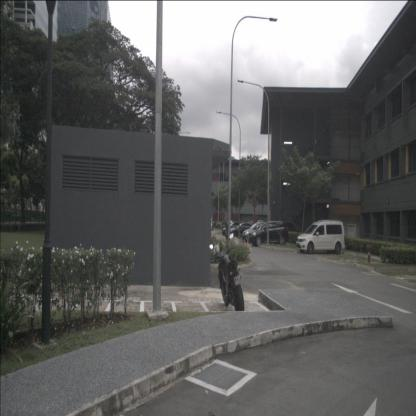human-pedestrian-adult: (224, 216, 230, 252), (284, 221, 290, 242)
movable_object-trafficcone: (245, 238, 250, 254), (242, 240, 247, 255)
vehicle-car: (296, 219, 345, 254), (250, 221, 288, 246), (242, 222, 272, 244), (229, 222, 257, 238), (223, 222, 247, 236)
vehicle-motorcycle: (209, 233, 245, 314)
